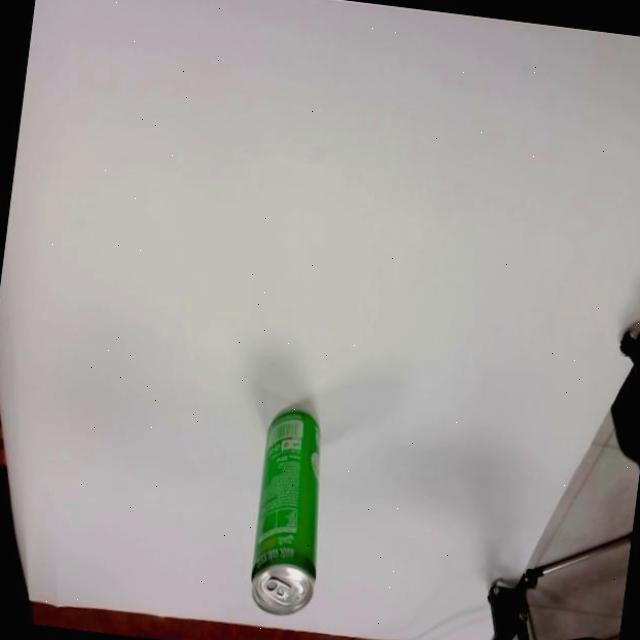debris: (243, 404, 335, 620)
